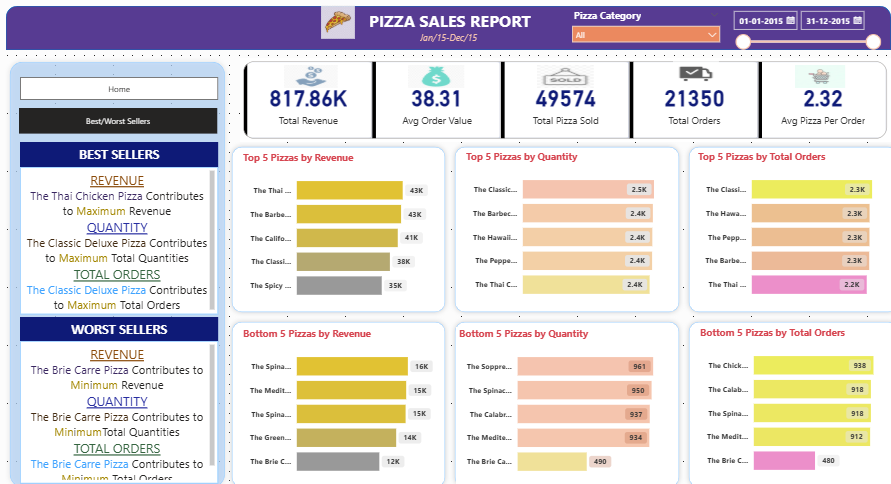

The page's visual inventory and layout, read from the dashboard file:
{"tool":"powerbi","page":{"name":"Best/Worst Sellers","canvas":[1500,820],"ordinal":1},"visuals":[{"type":"shape","box":[14,100,372,720],"z":0},{"type":"cardVisual","fields":{"Data":["pizza_sales.Total Revenue","pizza_sales.Avg Order Value","pizza_sales.Total Pizza Sold","pizza_sales.Total Orders","pizza_sales.Avg Pizza Per Order"]},"box":[402.2,101,1077.5,139],"z":1000},{"type":"image","box":[475,112.6,89.4,38.1],"z":2000},{"type":"image","box":[680.3,112.6,92.7,38.1],"z":3000},{"type":"image","box":[893.8,112.6,94.3,38.1],"z":4000},{"type":"image","box":[1118.9,104.3,76.1,46.3],"z":5000},{"type":"image","box":[1320.8,112.6,82.8,38.1],"z":6000},{"type":"shape","box":[14.9,14.9,1464.8,72.8],"z":7000},{"type":"textbox","box":[600.8,14.9,297.9,46.3],"z":8000},{"type":"textbox","box":[695.2,51.3,107.6,36.4],"z":9000},{"type":"image","box":[521.4,13.2,86.1,56.3],"z":10000},{"type":"shape","box":[380.7,240,369.1,289.7],"z":11000},{"type":"textbox","box":[38,240,328,42],"z":12000},{"type":"textbox","box":[38,282,328,244],"z":13000},{"type":"textbox","box":[38,530,328,40],"z":14000},{"type":"textbox","box":[38,570,328,236],"z":15000},{"type":"slicer","fields":{"Values":["pizza_sales.pizza_category"]},"box":[941.8,14.9,264.8,72.8],"z":16000},{"type":"slicer","fields":{"Values":["pizza_sales.order_date"]},"box":[1206.6,13.2,264.8,74.5],"z":17000},{"type":"shape","box":[749.8,240,387.3,289.7],"z":18000},{"type":"shape","box":[1137.1,240,362.5,289.7],"z":19000},{"type":"shape","box":[1137.1,529.7,362.5,289.7],"z":20000},{"type":"shape","box":[749.8,529.7,387.3,289.7],"z":21000},{"type":"shape","box":[380.7,529.7,369.1,289.7],"z":22000},{"type":"barChart","title":"Top 5 Pizzas by Revenue","fields":{"Category":["pizza_sales.pizza_name"],"Y":["pizza_sales.Total Revenue"]},"box":[402.2,254.9,324.4,259.9],"z":23000},{"type":"barChart","title":"Bottom 5 Pizzas by Revenue","fields":{"Category":["pizza_sales.pizza_name"],"Y":["pizza_sales.Total Revenue"]},"box":[402.2,546.2,324.4,259.9],"z":24000},{"type":"barChart","title":"Top 5 Pizzas by Quantity","fields":{"Category":["pizza_sales.pizza_name"],"Y":["pizza_sales.Total Pizza Sold"]},"box":[772,254,346,260],"z":25000},{"type":"barChart","title":"Bottom 5 Pizzas by Quantity","fields":{"Category":["pizza_sales.pizza_name"],"Y":["pizza_sales.Total Pizza Sold"]},"box":[760,546,358,260],"z":26000},{"type":"barChart","title":"Top 5 Pizzas by Total Orders","fields":{"Category":["pizza_sales.pizza_name"],"Y":["pizza_sales.Total Orders"]},"box":[1156,254,324,260],"z":27000},{"type":"barChart","title":"Bottom 5 Pizzas by Total Orders","fields":{"Category":["pizza_sales.pizza_name"],"Y":["pizza_sales.Total Orders"]},"box":[1158,544,324,260],"z":28000},{"type":"pageNavigator","box":[36,184,328,42],"z":29000},{"type":"pageNavigator","box":[38,132,328,38],"z":30000}]}

Visuals, with their boxes in screenshot pixels (x1, y1, x2, y2), scaled from the page's 1500x820 canvas onto the 891x484 screenshot:
shape: [8,59,229,483]
cardVisual - pizza_sales.Total Revenue x pizza_sales.Avg Order Value: [239,60,879,142]
image: [282,66,335,89]
image: [404,66,459,89]
image: [531,66,587,89]
image: [665,62,710,89]
image: [785,66,834,89]
shape: [9,9,879,52]
textbox: [357,9,534,36]
textbox: [413,30,477,52]
image: [310,8,361,41]
shape: [226,142,445,313]
textbox: [23,142,217,166]
textbox: [23,166,217,310]
textbox: [23,313,217,336]
textbox: [23,336,217,476]
slicer - pizza_sales.pizza_category: [559,9,717,52]
slicer - pizza_sales.order_date: [717,8,874,52]
shape: [445,142,675,313]
shape: [675,142,890,313]
shape: [675,313,890,483]
shape: [445,313,675,483]
shape: [226,313,445,483]
"Top 5 Pizzas by Revenue" barChart: [239,150,432,304]
"Bottom 5 Pizzas by Revenue" barChart: [239,322,432,476]
"Top 5 Pizzas by Quantity" barChart: [459,150,664,303]
"Bottom 5 Pizzas by Quantity" barChart: [451,322,664,476]
"Top 5 Pizzas by Total Orders" barChart: [687,150,879,303]
"Bottom 5 Pizzas by Total Orders" barChart: [688,321,880,475]
pageNavigator: [21,109,216,133]
pageNavigator: [23,78,217,100]
